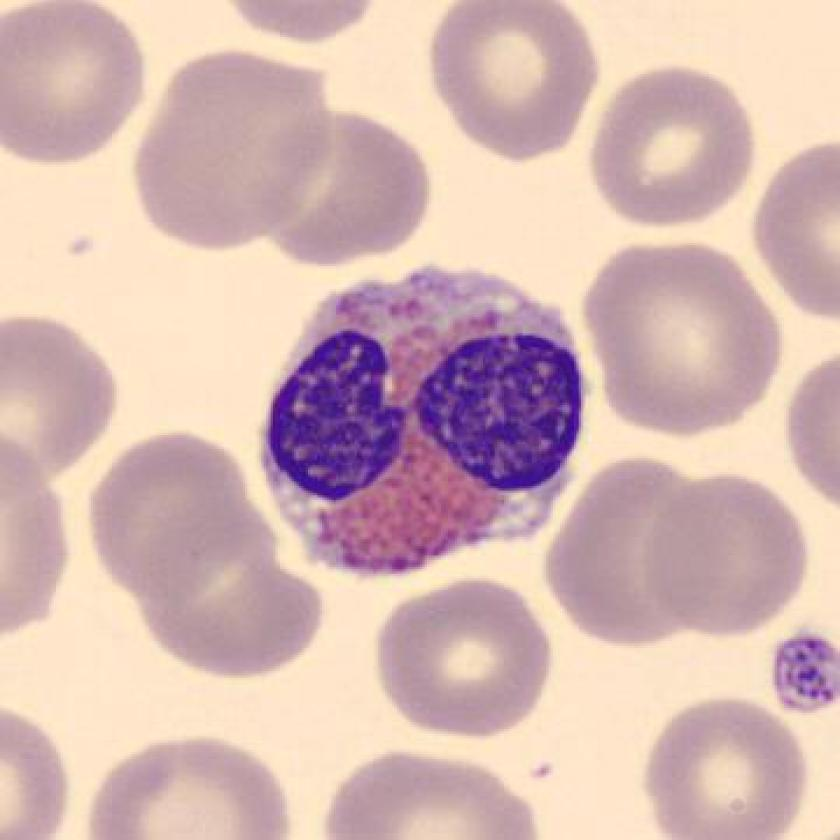eosinophil: (244, 254, 612, 594)
